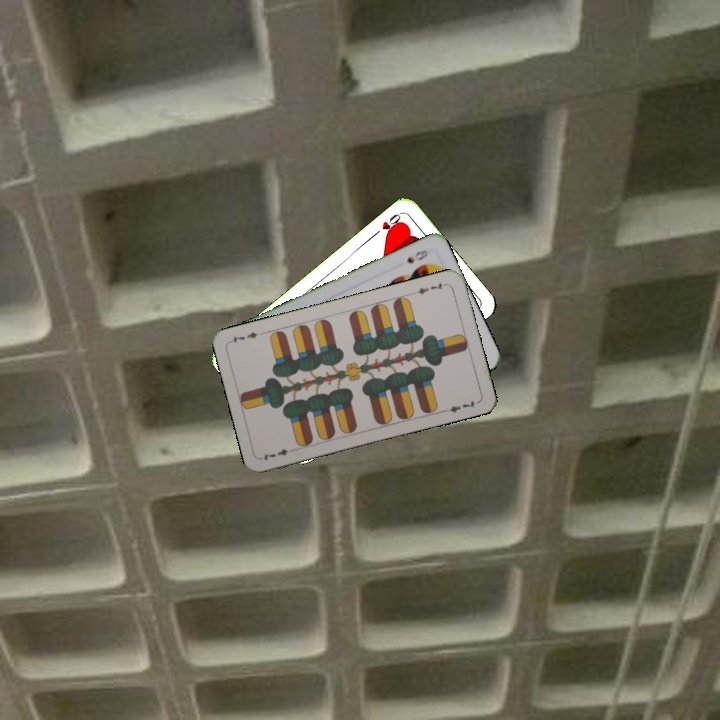E7: (258, 445, 298, 463), (413, 279, 449, 297)
HO: (370, 209, 405, 239)
S8: (403, 245, 430, 266)
